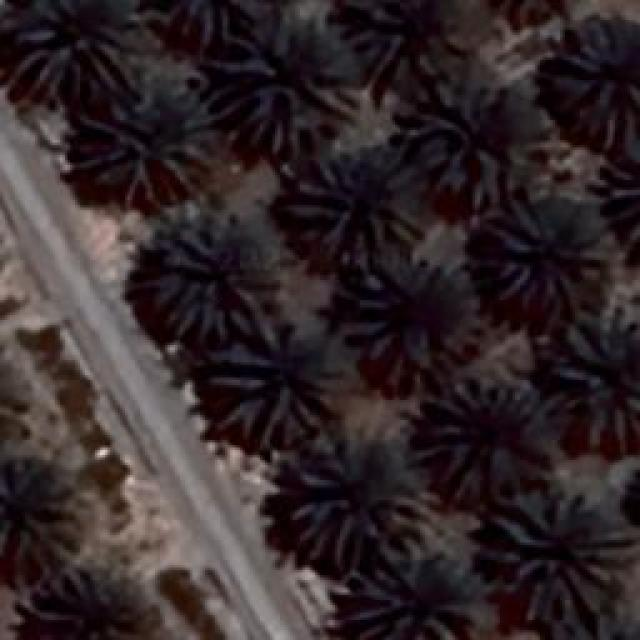PalmTree: (215, 10, 360, 155), (285, 425, 433, 565), (488, 478, 630, 622), (400, 70, 542, 208), (75, 68, 220, 202), (205, 315, 338, 443), (347, 250, 475, 380), (280, 154, 422, 268), (135, 210, 273, 322), (482, 200, 610, 310), (0, 0, 150, 92), (431, 375, 541, 485), (552, 310, 638, 448), (552, 15, 638, 143), (345, 570, 475, 640), (0, 456, 72, 576), (28, 572, 152, 640), (350, 0, 458, 78), (147, 0, 281, 53), (601, 148, 640, 244), (0, 333, 28, 446), (540, 611, 640, 640), (492, 0, 591, 26)
